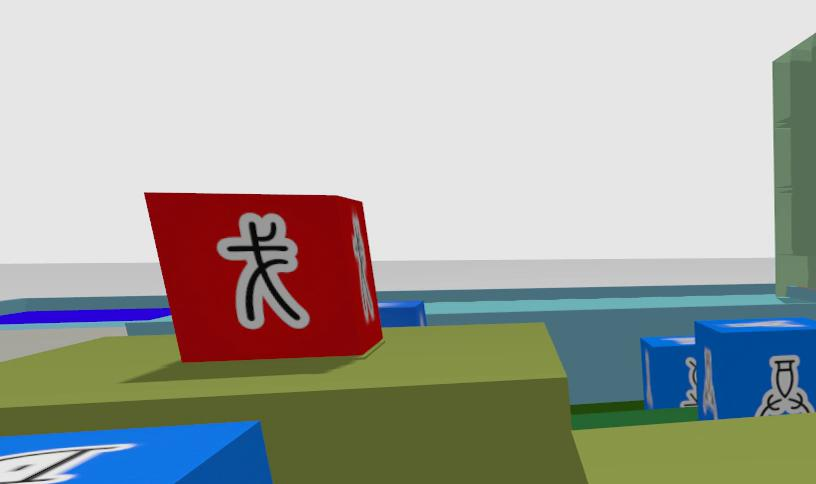KFS_FAKE: (145, 193, 381, 362), (217, 213, 309, 329), (352, 214, 376, 320)
KFS_REAL: (0, 422, 272, 483), (695, 316, 815, 418), (0, 444, 135, 483), (640, 336, 701, 409), (755, 355, 814, 415), (680, 357, 696, 406), (661, 337, 694, 344)
